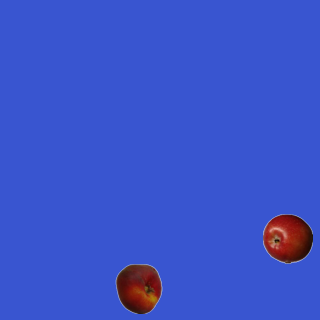Apple Braeburn: (262, 213, 312, 263)
Nectarine Flat: (113, 263, 163, 313)
